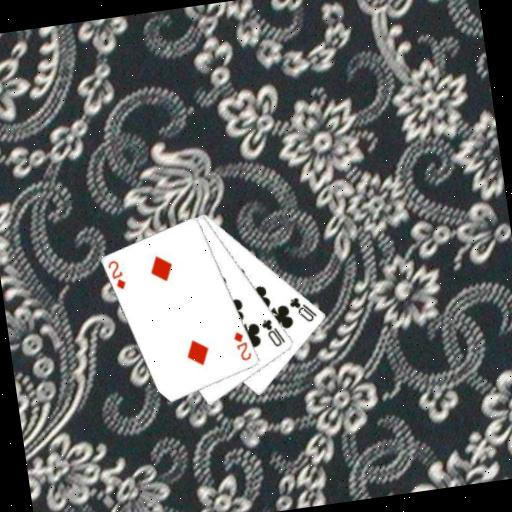10C: (286, 292, 320, 326), (258, 314, 288, 351)
2D: (230, 328, 255, 364), (104, 256, 129, 292)
